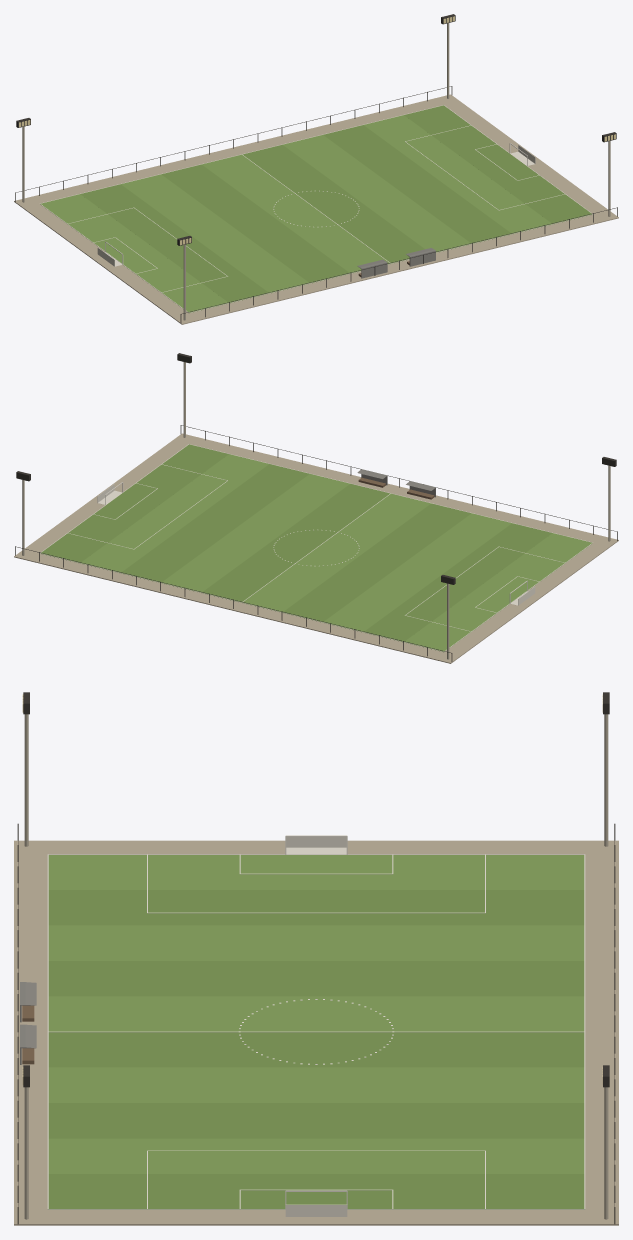
The model's file is futbol-sahasi.glb.
3 renders of one model, top to bottom at view 1: azimuth 30°, elevation 25°; view 2: azimuth 150°, elevation 25°; view 3: azimuth 270°, elevation 25°, orthographic. The views are drawn at different scales.
Parts seen in each view (by area): view 1: cim2, cim, zemin, cizgi, demir, beton2, sac, file; view 2: cim2, cim, zemin, cizgi, demir, beton2, sac, file; view 3: cim, cim2, zemin, cizgi, beton2, demir, file, sac.
Part boxes in pixels (box(x1,y1,x2,y2)): cim2: box(40, 115, 552, 313); cim: box(80, 105, 592, 303); zemin: box(14, 94, 618, 324); cizgi: box(40, 105, 593, 312); demir: box(15, 14, 617, 322); beton2: box(22, 23, 610, 320); sac: box(357, 248, 435, 278); file: box(97, 145, 535, 266); cim2: box(80, 454, 592, 652); cim: box(40, 444, 552, 642); zemin: box(14, 433, 618, 663); cizgi: box(39, 444, 592, 651); demir: box(15, 353, 617, 661); beton2: box(22, 362, 610, 659); sac: box(357, 469, 435, 497); file: box(97, 484, 535, 605); cim: box(48, 890, 584, 1209); cim2: box(48, 855, 584, 1173); zemin: box(14, 840, 618, 1225); cizgi: box(47, 835, 585, 1209); beton2: box(24, 714, 608, 1219); demir: box(17, 692, 615, 1224); file: box(285, 837, 347, 1216); sac: box(20, 982, 36, 1064).
Bounding box in the file's own units: 108 × 19.6 × 72.
